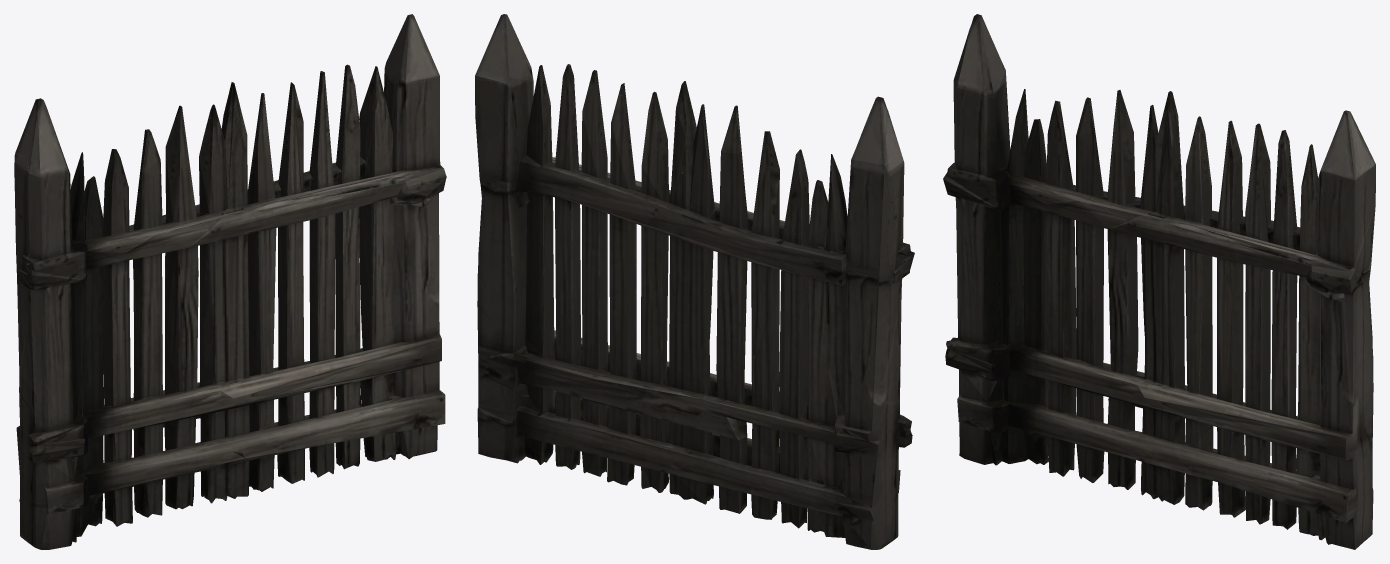
Rendered from char_barricade_01.glb.
3 views of the same model, side by side, from view 1: azimuth 30°, elevation 25°; view 2: azimuth 150°, elevation 25°; view 3: azimuth 330°, elevation 25° (orthographic).
Visible parts, largest first — view 1: geometry_0; view 2: geometry_0; view 3: geometry_0.
Part boxes in pixels (x1=…): geometry_0: x1=14, y1=14, x2=446, y2=549; geometry_0: x1=475, y1=14, x2=914, y2=549; geometry_0: x1=943, y1=14, x2=1375, y2=549.
Bounding box in the file's own units: 0.974 × 0.9989 × 0.1257.
1 material, 1 textured.
